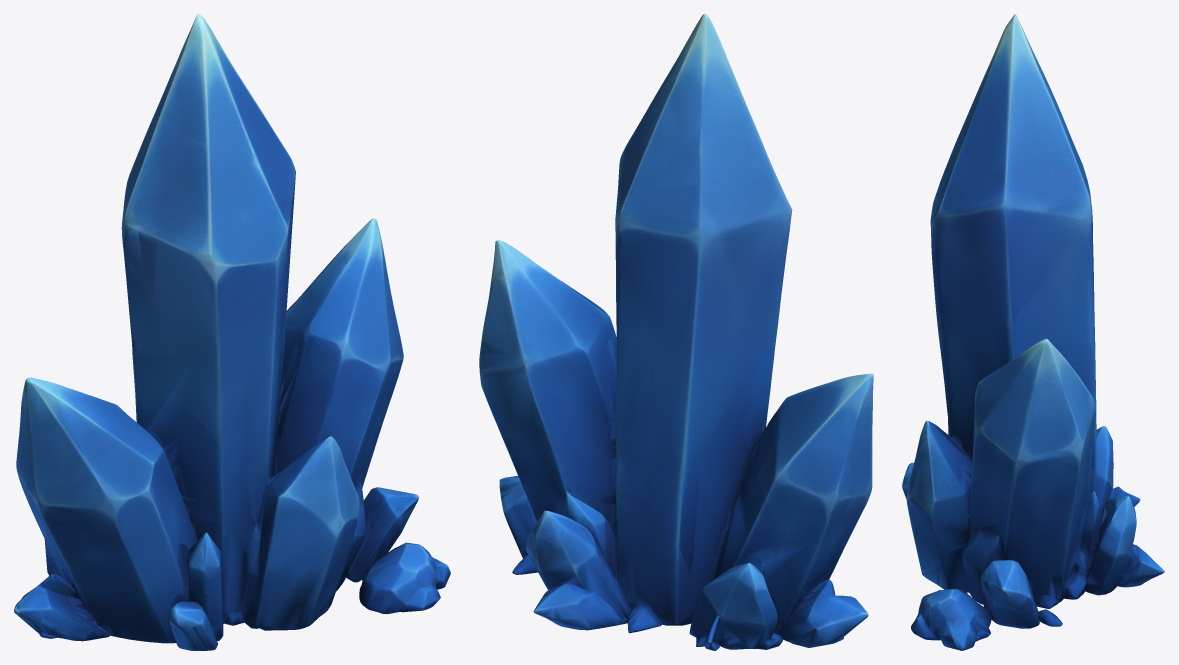
File: cristal_azul.glb
3 views of the same model, side by side, from view 1: azimuth 30°, elevation 25°; view 2: azimuth 150°, elevation 25°; view 3: azimuth 270°, elevation 25° (orthographic). The views are drawn at different scales.
Visible parts, largest first — view 1: cristal_azul; view 2: cristal_azul; view 3: cristal_azul.
Part boxes in pixels (x1,y1,x2,y2): cristal_azul: (14, 14, 450, 650); cristal_azul: (479, 14, 873, 650); cristal_azul: (902, 14, 1164, 650).
Size of what is drawn, in the model's own units: 0.6955 by 1 by 0.4404.
Materials: 1 (1 with a texture image).
